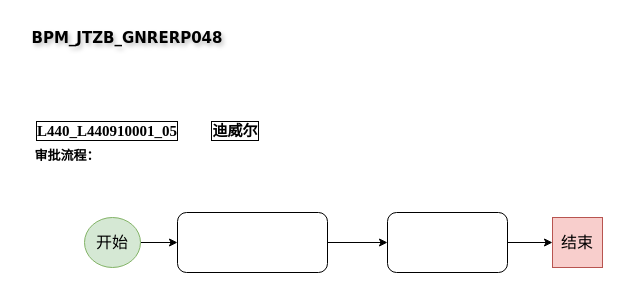
This 620x290 diagram has some shape labels left out. Here are the shapes that lost their labels. From the top down, the box of each, then its label:
(176, 212, 328, 272): 产业化推广中心
(386, 212, 508, 272): 财务部经理
